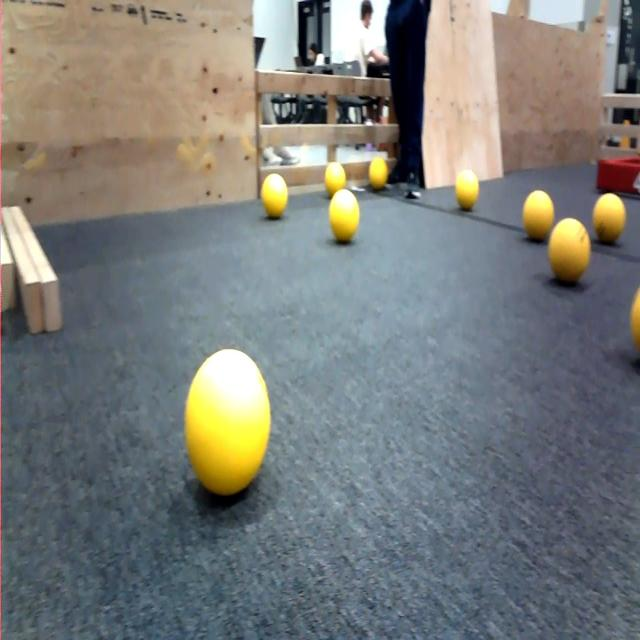Bumper: (590, 140, 640, 205)
fuel: (178, 343, 272, 511), (542, 215, 595, 282), (516, 173, 559, 253), (590, 179, 632, 248), (447, 155, 489, 215), (323, 188, 367, 244), (258, 169, 295, 224), (364, 150, 398, 194), (320, 155, 351, 196), (625, 275, 640, 357)
